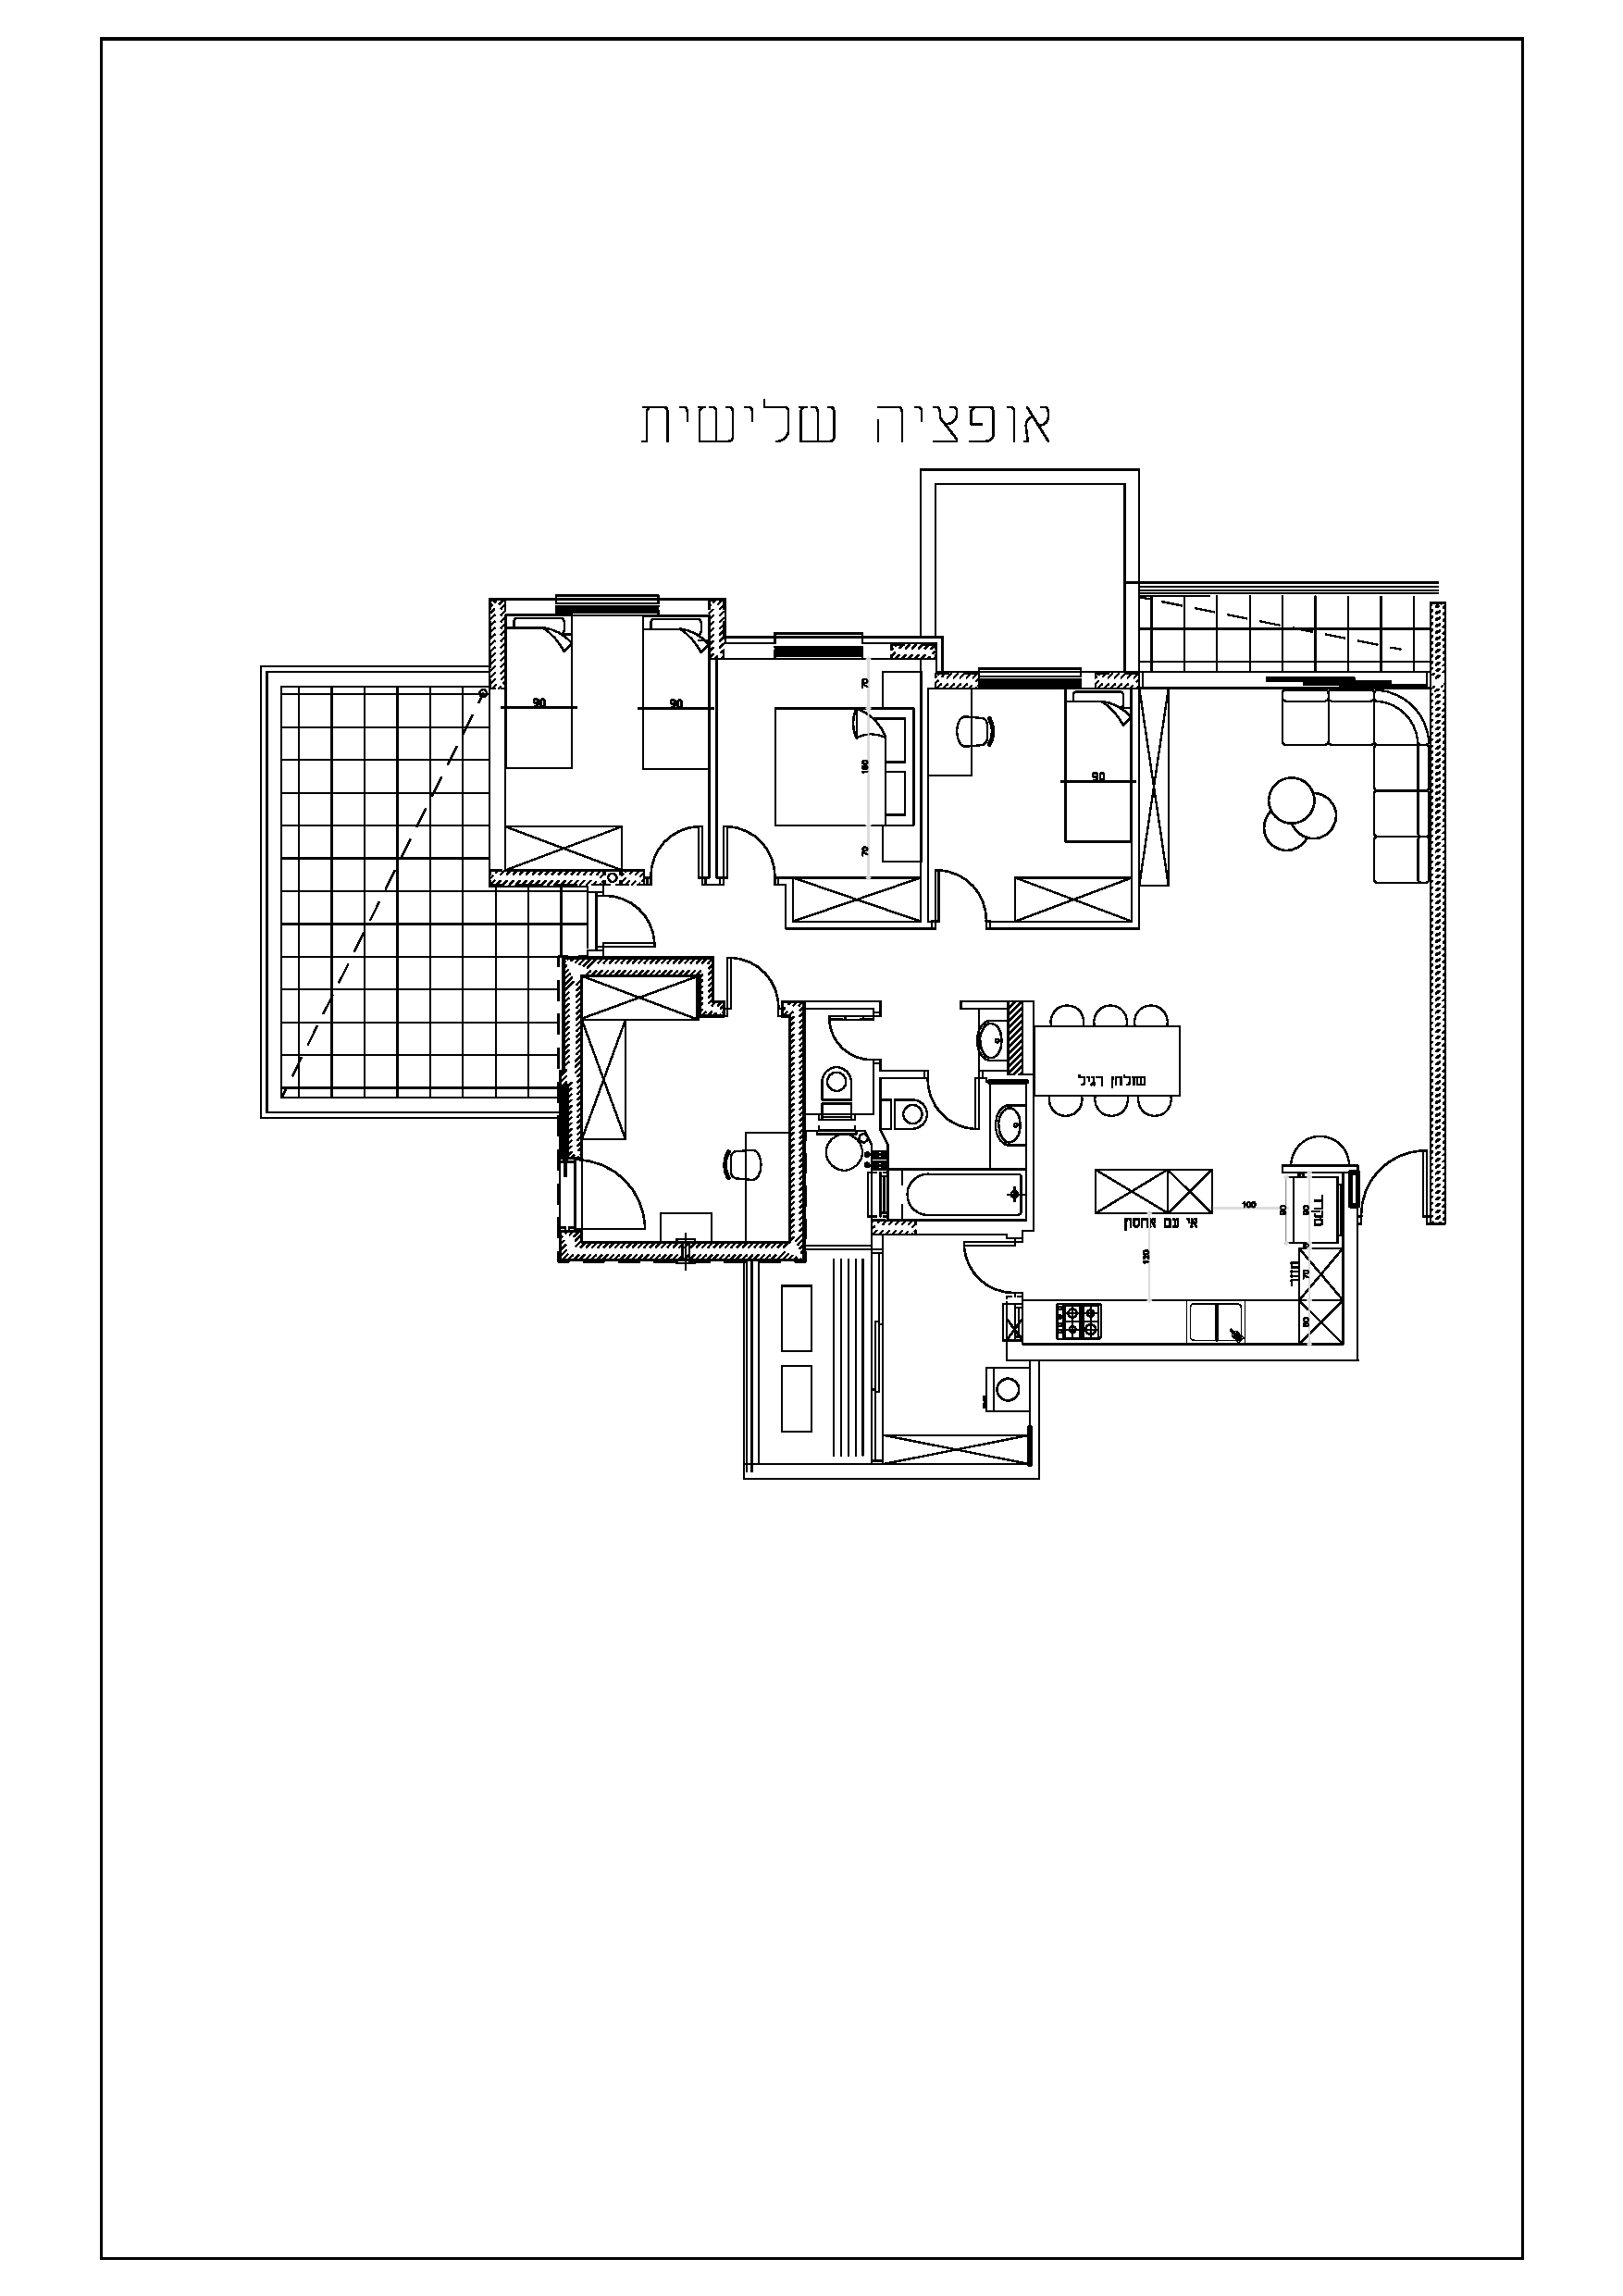door: (588, 1151, 650, 1238), (945, 1235, 1012, 1298), (931, 852, 998, 913), (720, 936, 787, 998), (602, 891, 664, 950), (815, 1012, 878, 1063), (926, 1079, 987, 1130), (722, 822, 782, 873), (646, 819, 704, 870)
wall: (745, 1462, 1042, 1479), (787, 1017, 804, 1256)
